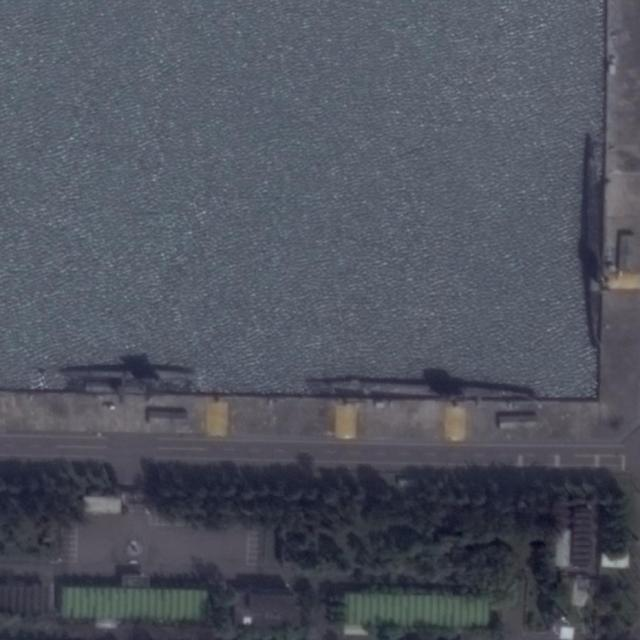Submarine: (578, 132, 604, 347), (308, 376, 529, 401), (56, 365, 198, 381)
